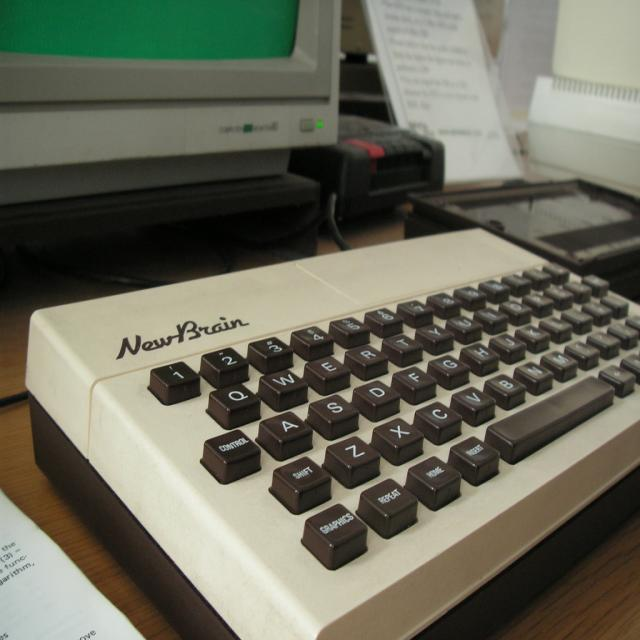desk: (0, 185, 639, 639)
keyboard: (15, 236, 638, 637)
tv: (2, 2, 340, 238)
